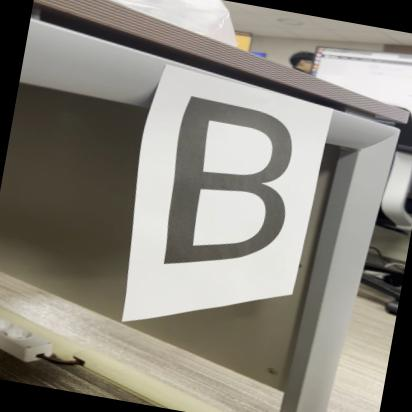seat: (156, 85, 322, 306)
